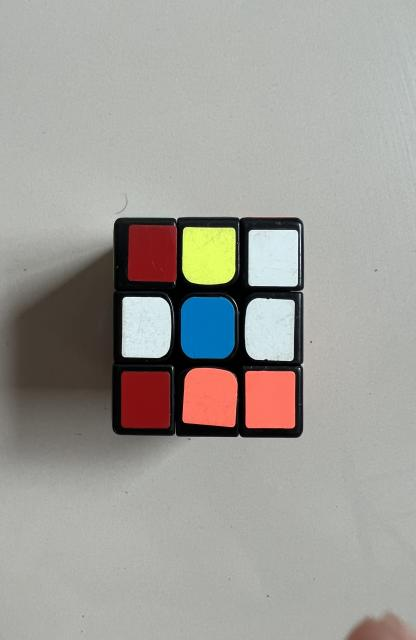Blue: (181, 296, 235, 359)
Orange: (182, 368, 237, 428), (245, 371, 296, 429)
Red: (121, 371, 170, 429), (128, 225, 177, 282)
White: (121, 296, 171, 359), (245, 298, 295, 361), (248, 230, 298, 286)
Yellow: (182, 226, 236, 285)
